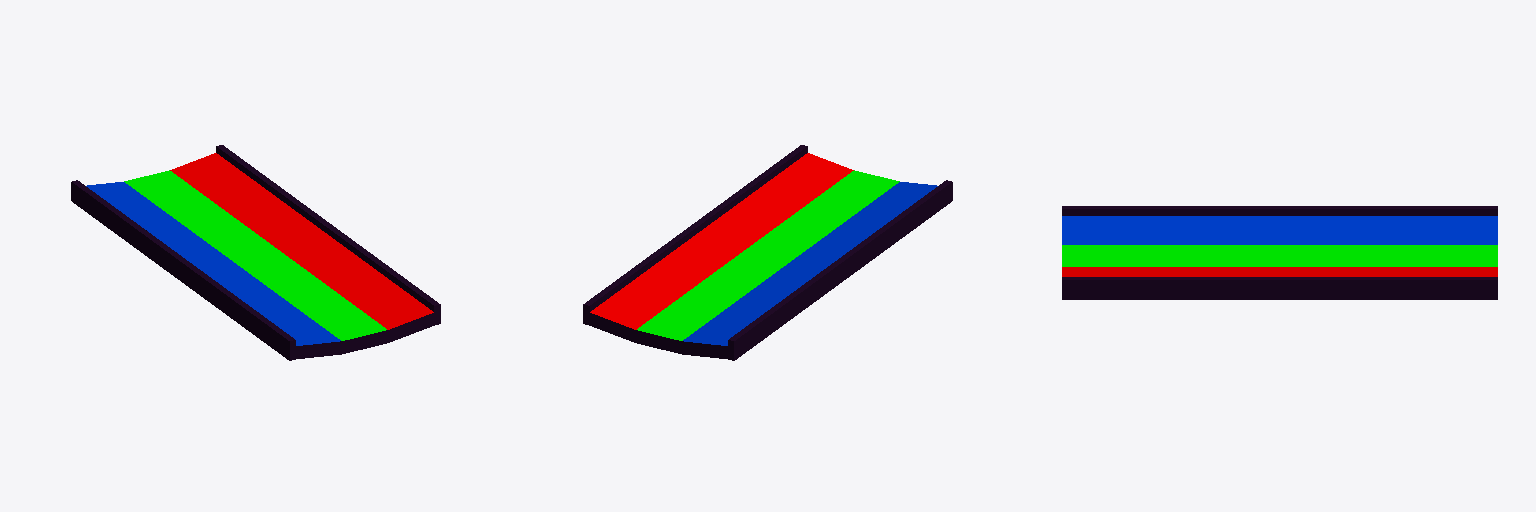
The model's file is RGB_TrackOnly_Curved.obj.
3 views of the same model, side by side, from view 1: azimuth 30°, elevation 25°; view 2: azimuth 150°, elevation 25°; view 3: azimuth 270°, elevation 25° (orthographic).
Bounding box in the file's own units: 12 × 1.97 × 30.